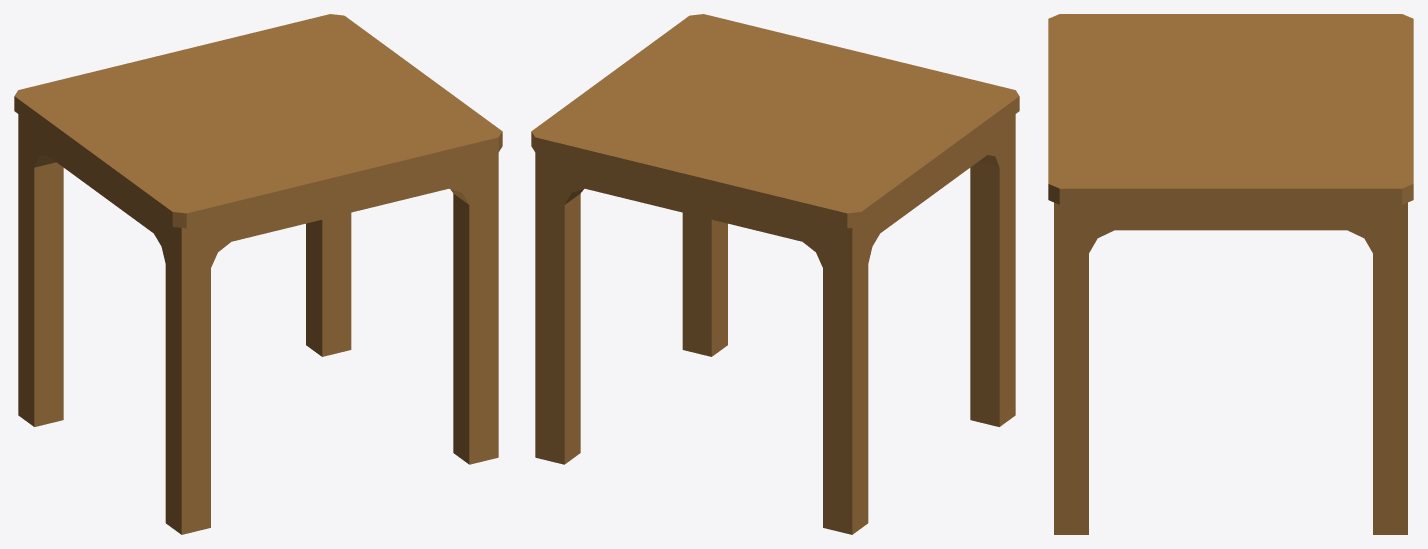
File: table-dining-small.fbx
The picture shows the model from 3 angles, left to right: view 1: azimuth 30°, elevation 25°; view 2: azimuth 150°, elevation 25°; view 3: azimuth 270°, elevation 25°; orthographic projection. The views are drawn at different scales.
Visible parts, largest first — view 1: table-dining-small; view 2: table-dining-small; view 3: table-dining-small.
Boxes of the visible parts, bbox=[...] form: table-dining-small: bbox=[14, 14, 502, 534]; table-dining-small: bbox=[531, 14, 1019, 534]; table-dining-small: bbox=[1048, 14, 1413, 534].
Bounding box in the file's own units: 0.8045 × 0.7518 × 0.7112.
